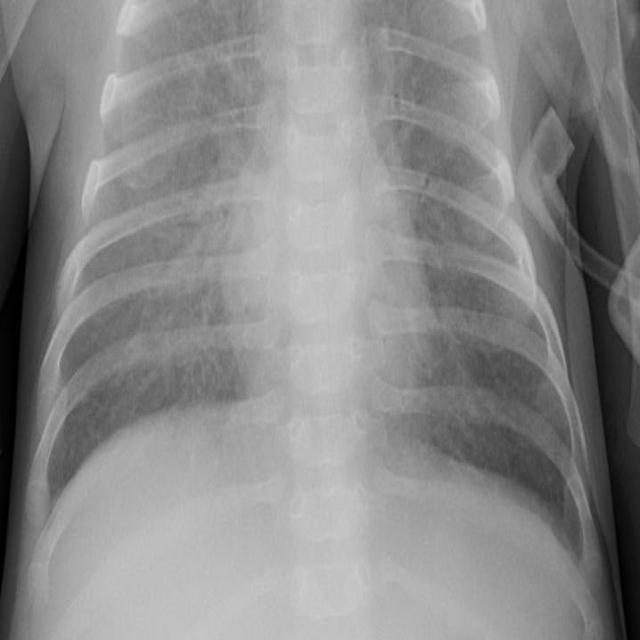low-pneumonia: (140, 74, 240, 382), (370, 1, 444, 217), (422, 285, 510, 435)
